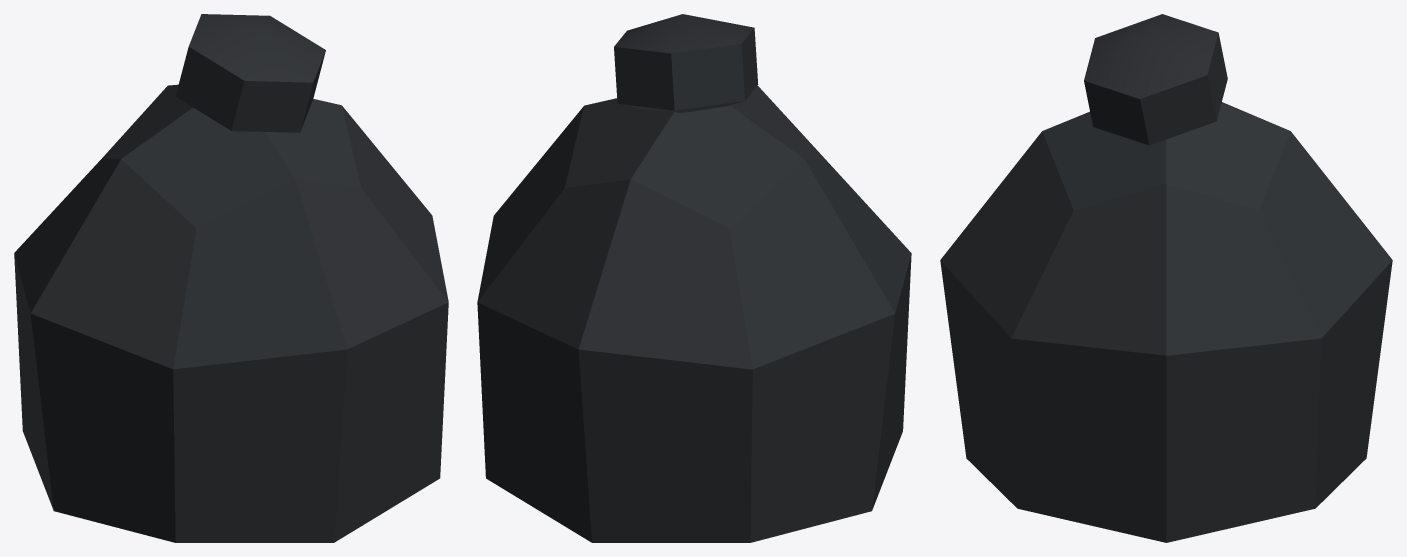
File: SM_Prop_Trashbag_01.fbx
3 views of the same model, side by side, from view 1: azimuth 30°, elevation 25°; view 2: azimuth 150°, elevation 25°; view 3: azimuth 270°, elevation 25° (orthographic). The views are drawn at different scales.
Visible parts, largest first — view 1: SM_Prop_Trashbag_01; view 2: SM_Prop_Trashbag_01; view 3: SM_Prop_Trashbag_01.
Part boxes in pixels (left/top/right/bottom): SM_Prop_Trashbag_01: left=14, top=14, right=448, bottom=542; SM_Prop_Trashbag_01: left=477, top=14, right=911, bottom=542; SM_Prop_Trashbag_01: left=940, top=14, right=1392, bottom=542.
Bounding box in the file's own units: 33.14 × 36.2 × 33.14.
